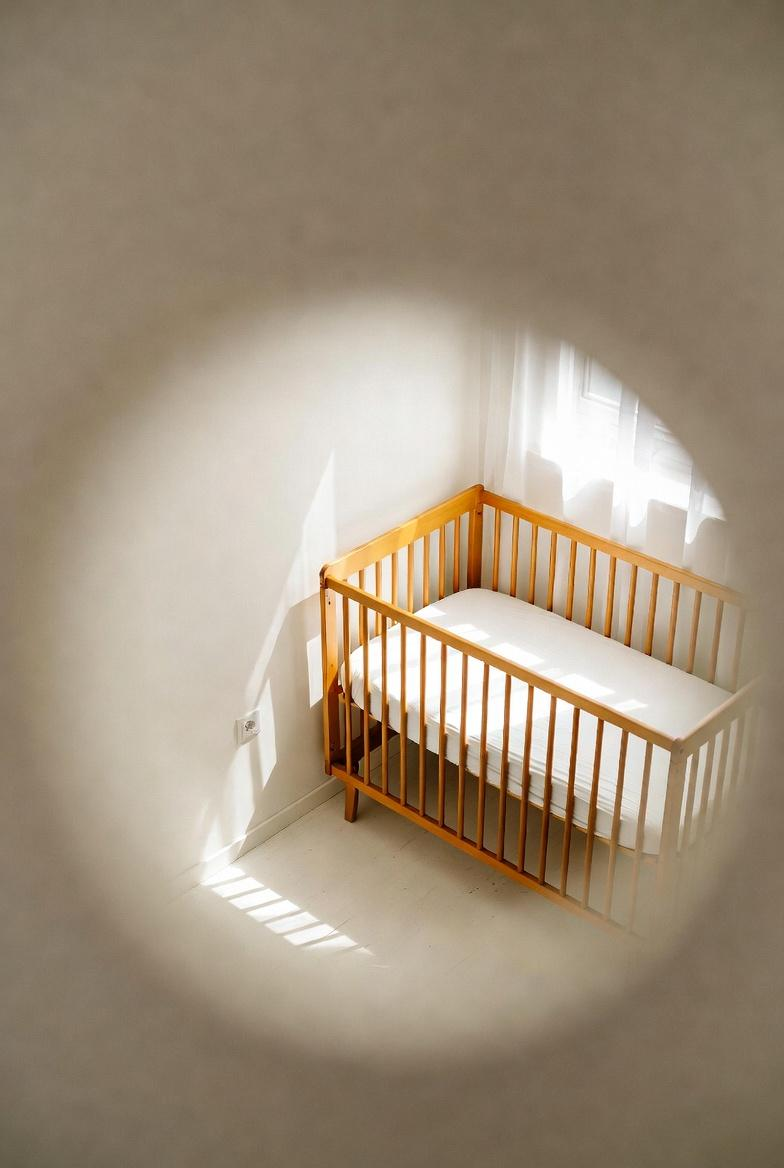crib: (321, 486, 756, 936)
